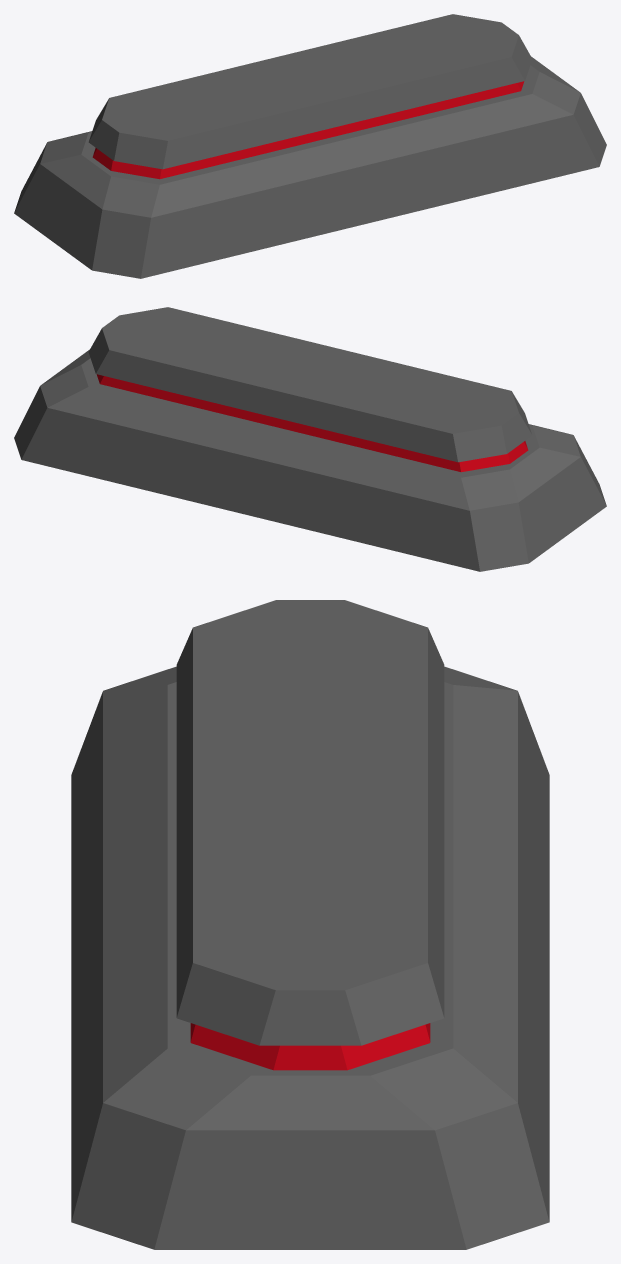
File: EnemyBase_ForceFieldGenerator.fbx
3 views of the same model, one above another, from view 1: azimuth 30°, elevation 25°; view 2: azimuth 150°, elevation 25°; view 3: azimuth 270°, elevation 25° (orthographic). The views are drawn at different scales.
Parts seen in each view (by area): view 1: ForceFieldGenerator; view 2: ForceFieldGenerator; view 3: ForceFieldGenerator.
Boxes of the visible parts, <box> form: ForceFieldGenerator: <box>14,14,606,278</box>; ForceFieldGenerator: <box>14,307,606,571</box>; ForceFieldGenerator: <box>71,600,549,1249</box>.
Size of the model in its own units: 64.44 by 12.16 by 25.91.
